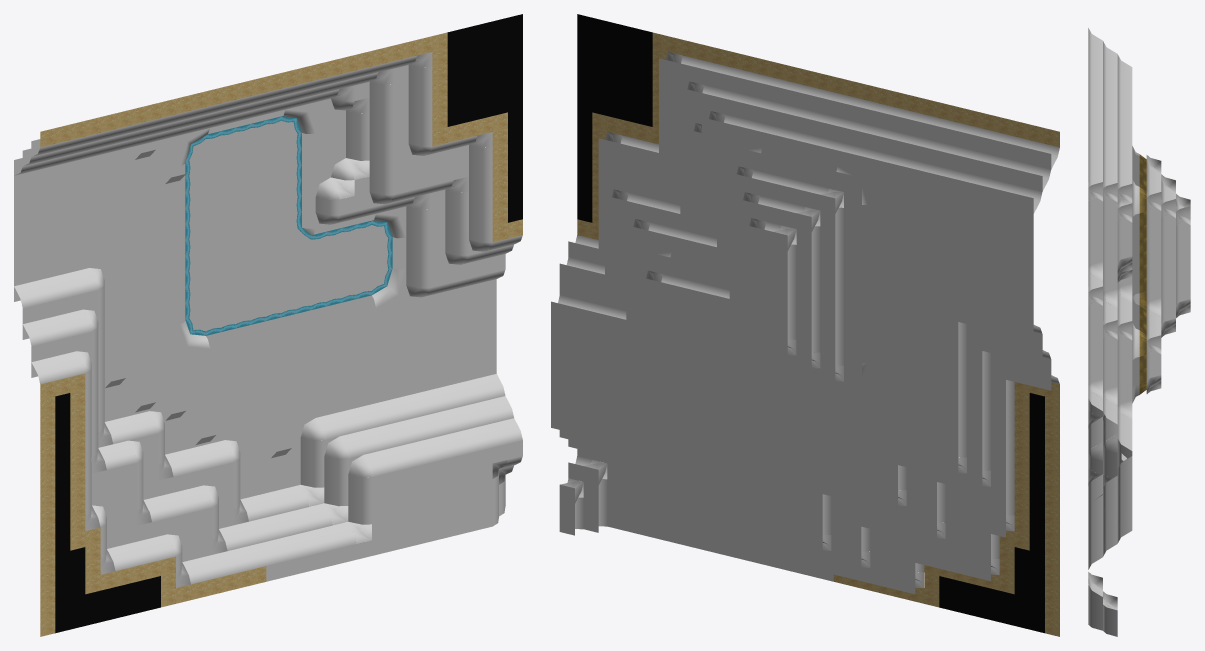
The model's file is Uluru-Cave-3_02_00.obj.
The picture shows the model from 3 angles, left to right: view 1: azimuth 30°, elevation 25°; view 2: azimuth 150°, elevation 25°; view 3: azimuth 270°, elevation 25°; orthographic projection. The views are drawn at different scales.
Parts seen in each view (by area): view 1: map; view 2: map; view 3: map.
Part boxes in pixels (x1=…): map: x1=14, y1=14, x2=522, y2=636; map: x1=551, y1=14, x2=1059, y2=636; map: x1=1088, y1=28, x2=1190, y2=636.
Size of the model in its own units: 32 by 32 by 7.
